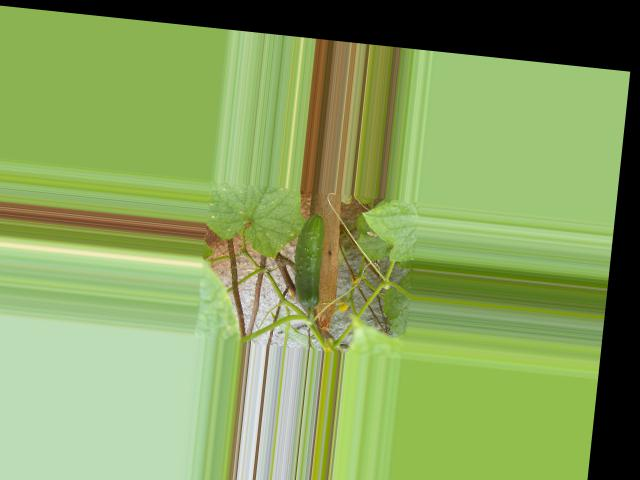cucumber: (289, 212, 328, 309)
